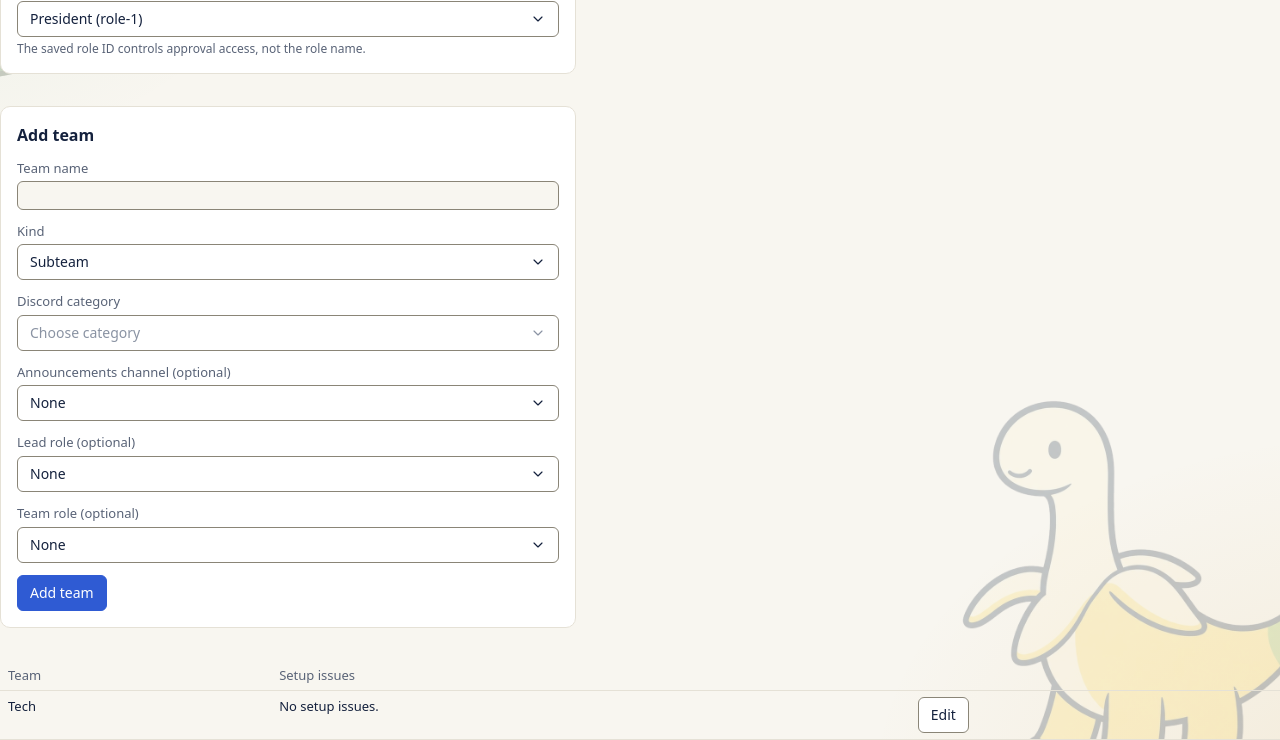
it: R1 destructive confirmations (teams) › team Delete: zero writes until confirmed; confirm sends one DELETE; refusal keeps the editor and message
(page scrolled)
Click the button with aria-label "Edit Tech": (943, 715) x1=918 y1=697 x2=969 y2=733
(page scrolled)
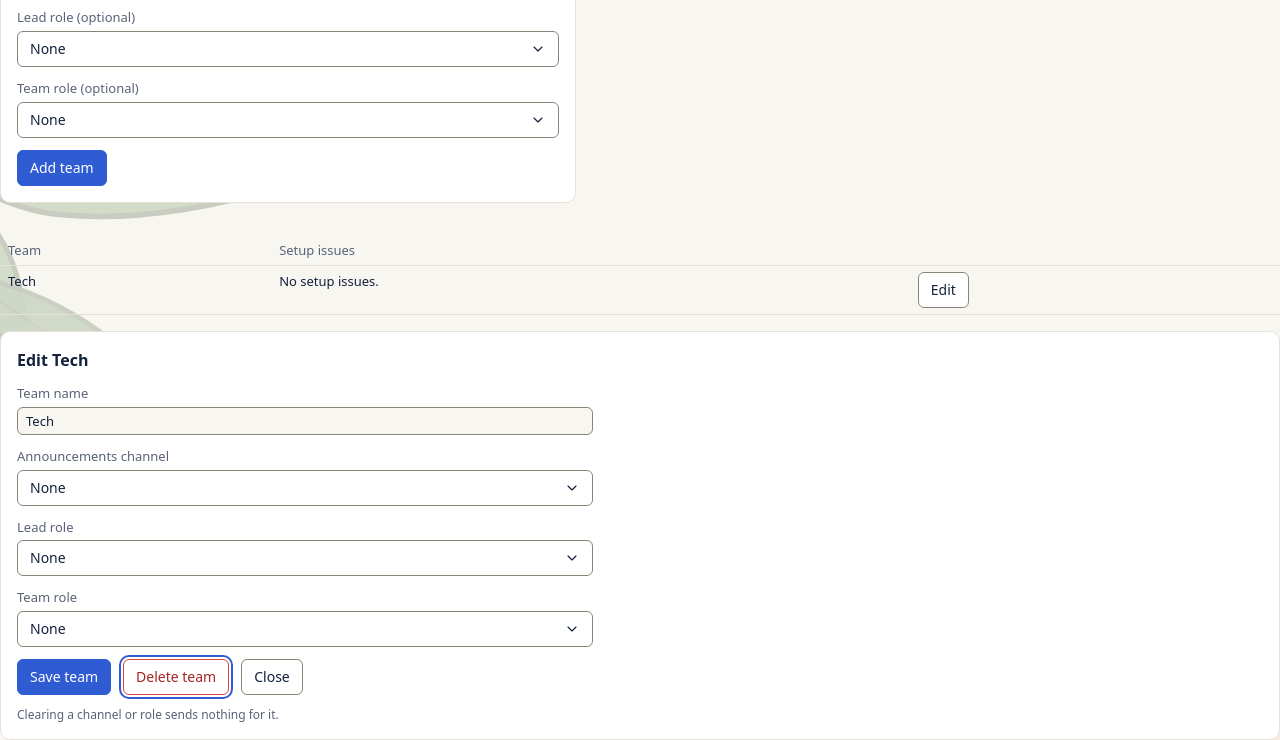
Press Enter
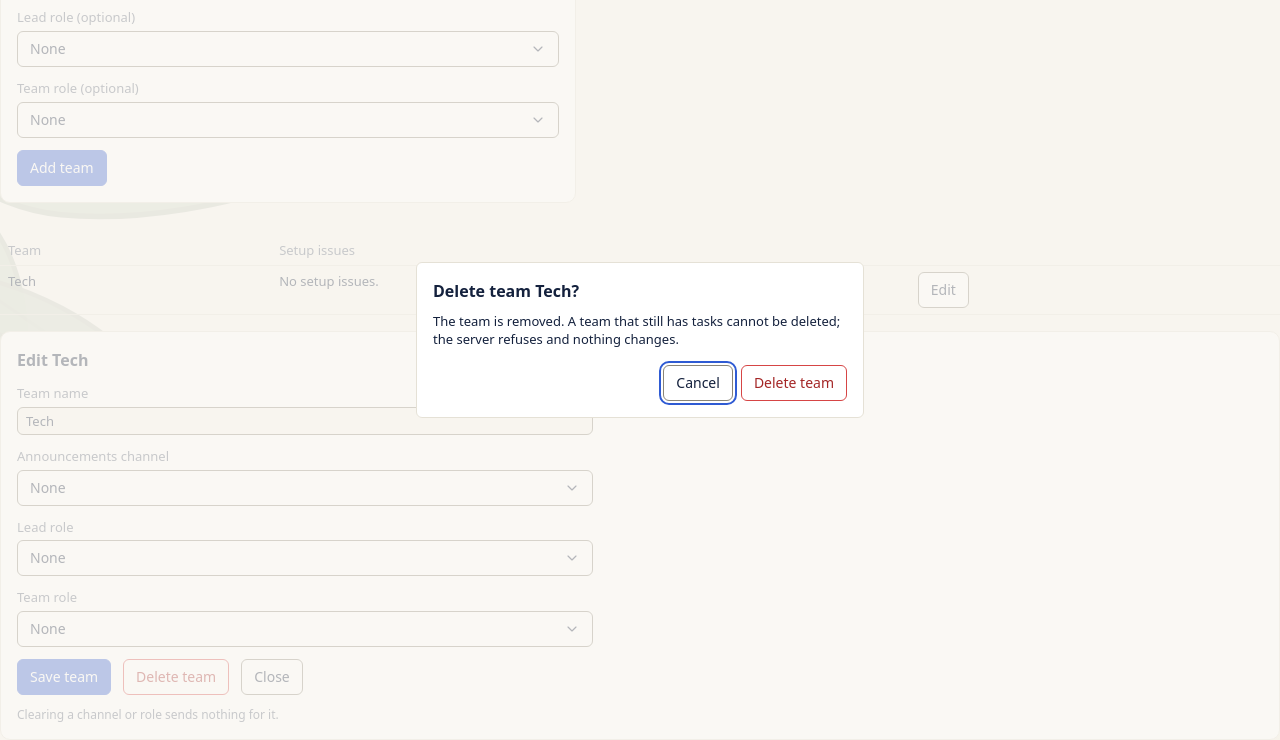
expect the heading "Delete team Tech?" is shown: met, box x1=433 y1=280 x2=579 y2=302
Press Escape
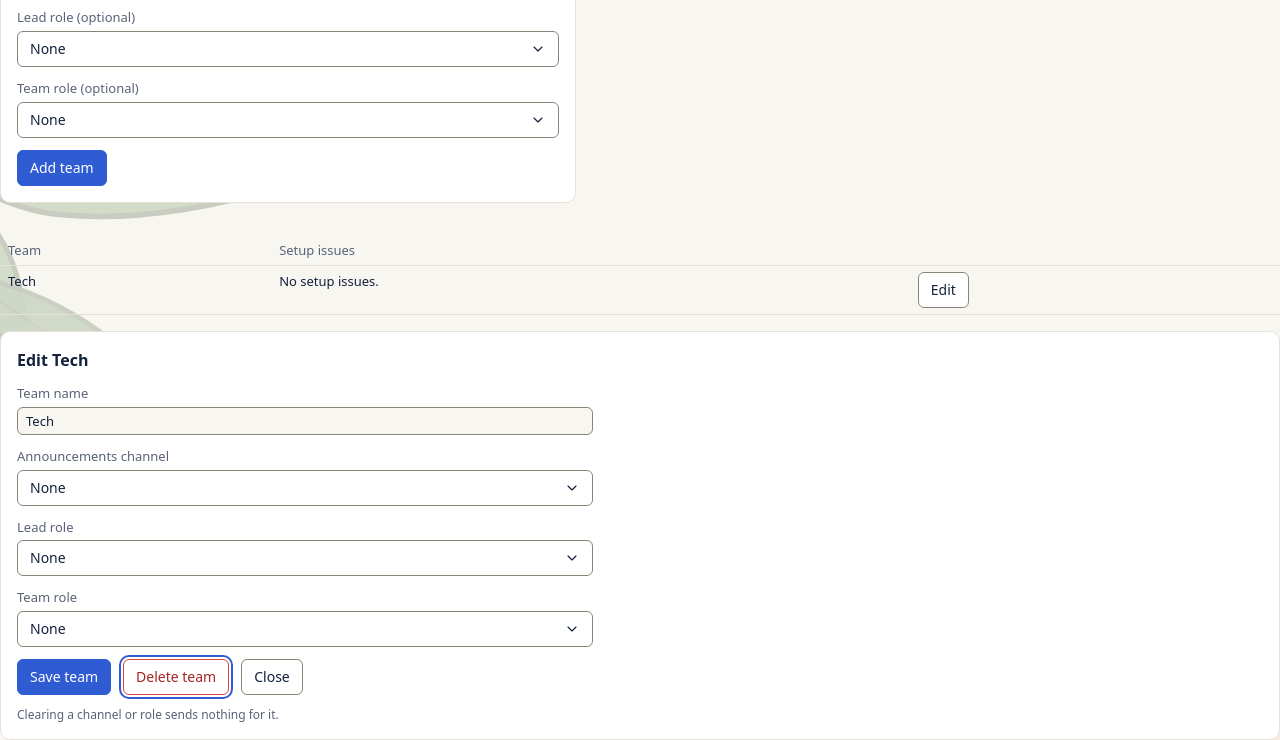
expect the dialog is gone: met
Click the button "Delete team": (176, 677) x1=123 y1=659 x2=229 y2=695
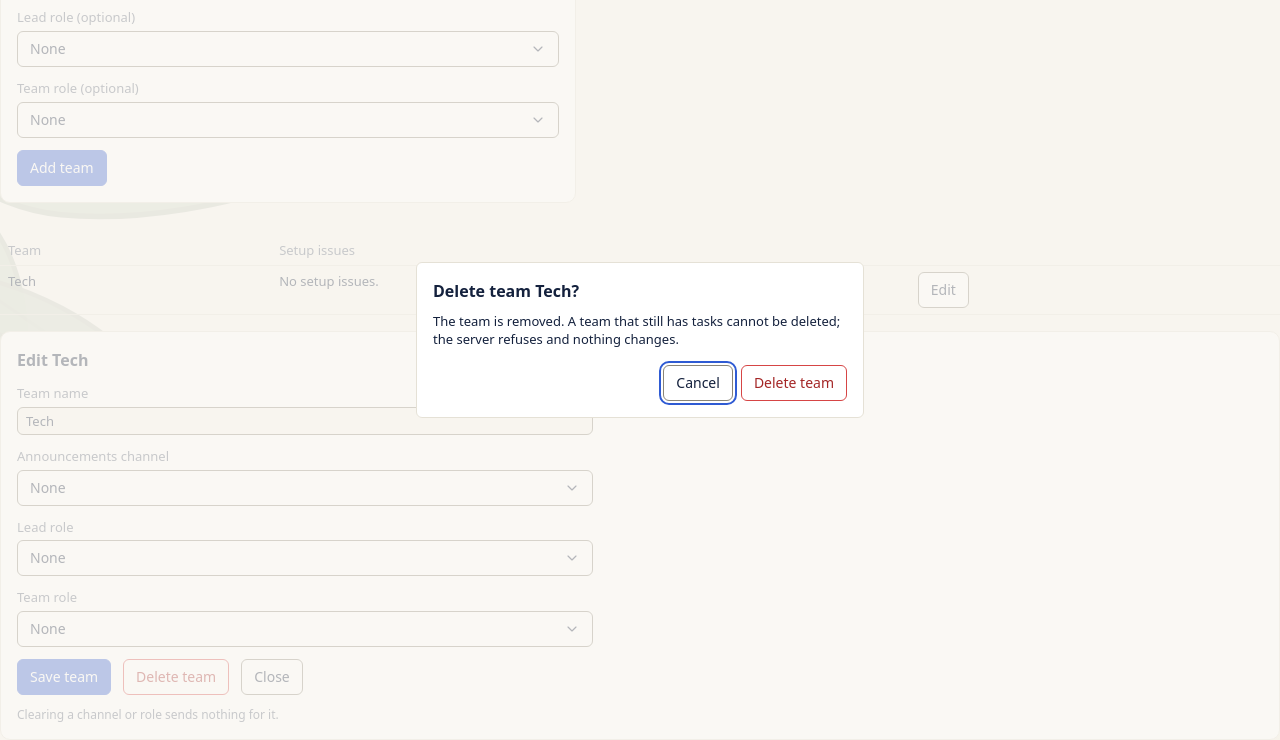
Click the button "Delete team": (794, 383) x1=741 y1=365 x2=847 y2=401
(page scrolled)
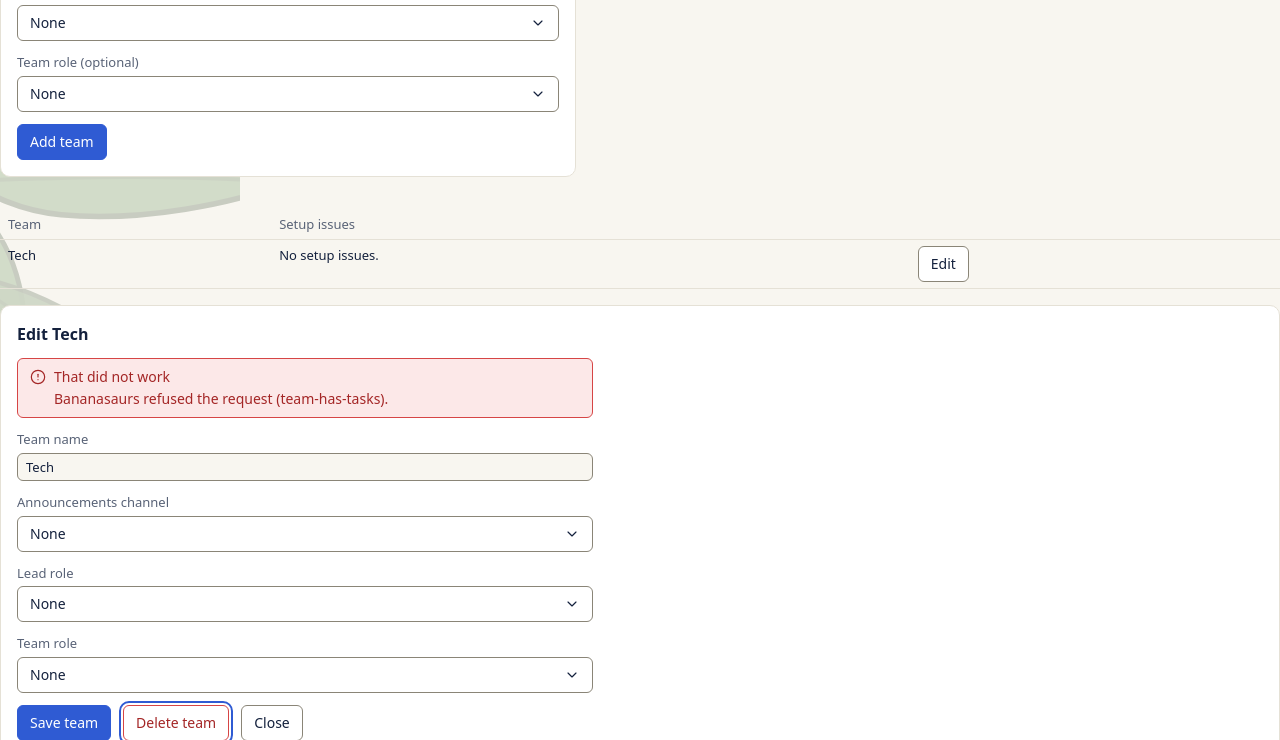
expect the button "Delete team" is shown: met, box x1=123 y1=705 x2=229 y2=739
expect the message shows "team-has-tasks": met, box x1=54 y1=389 x2=388 y2=408
expect the dialog is gone: met
